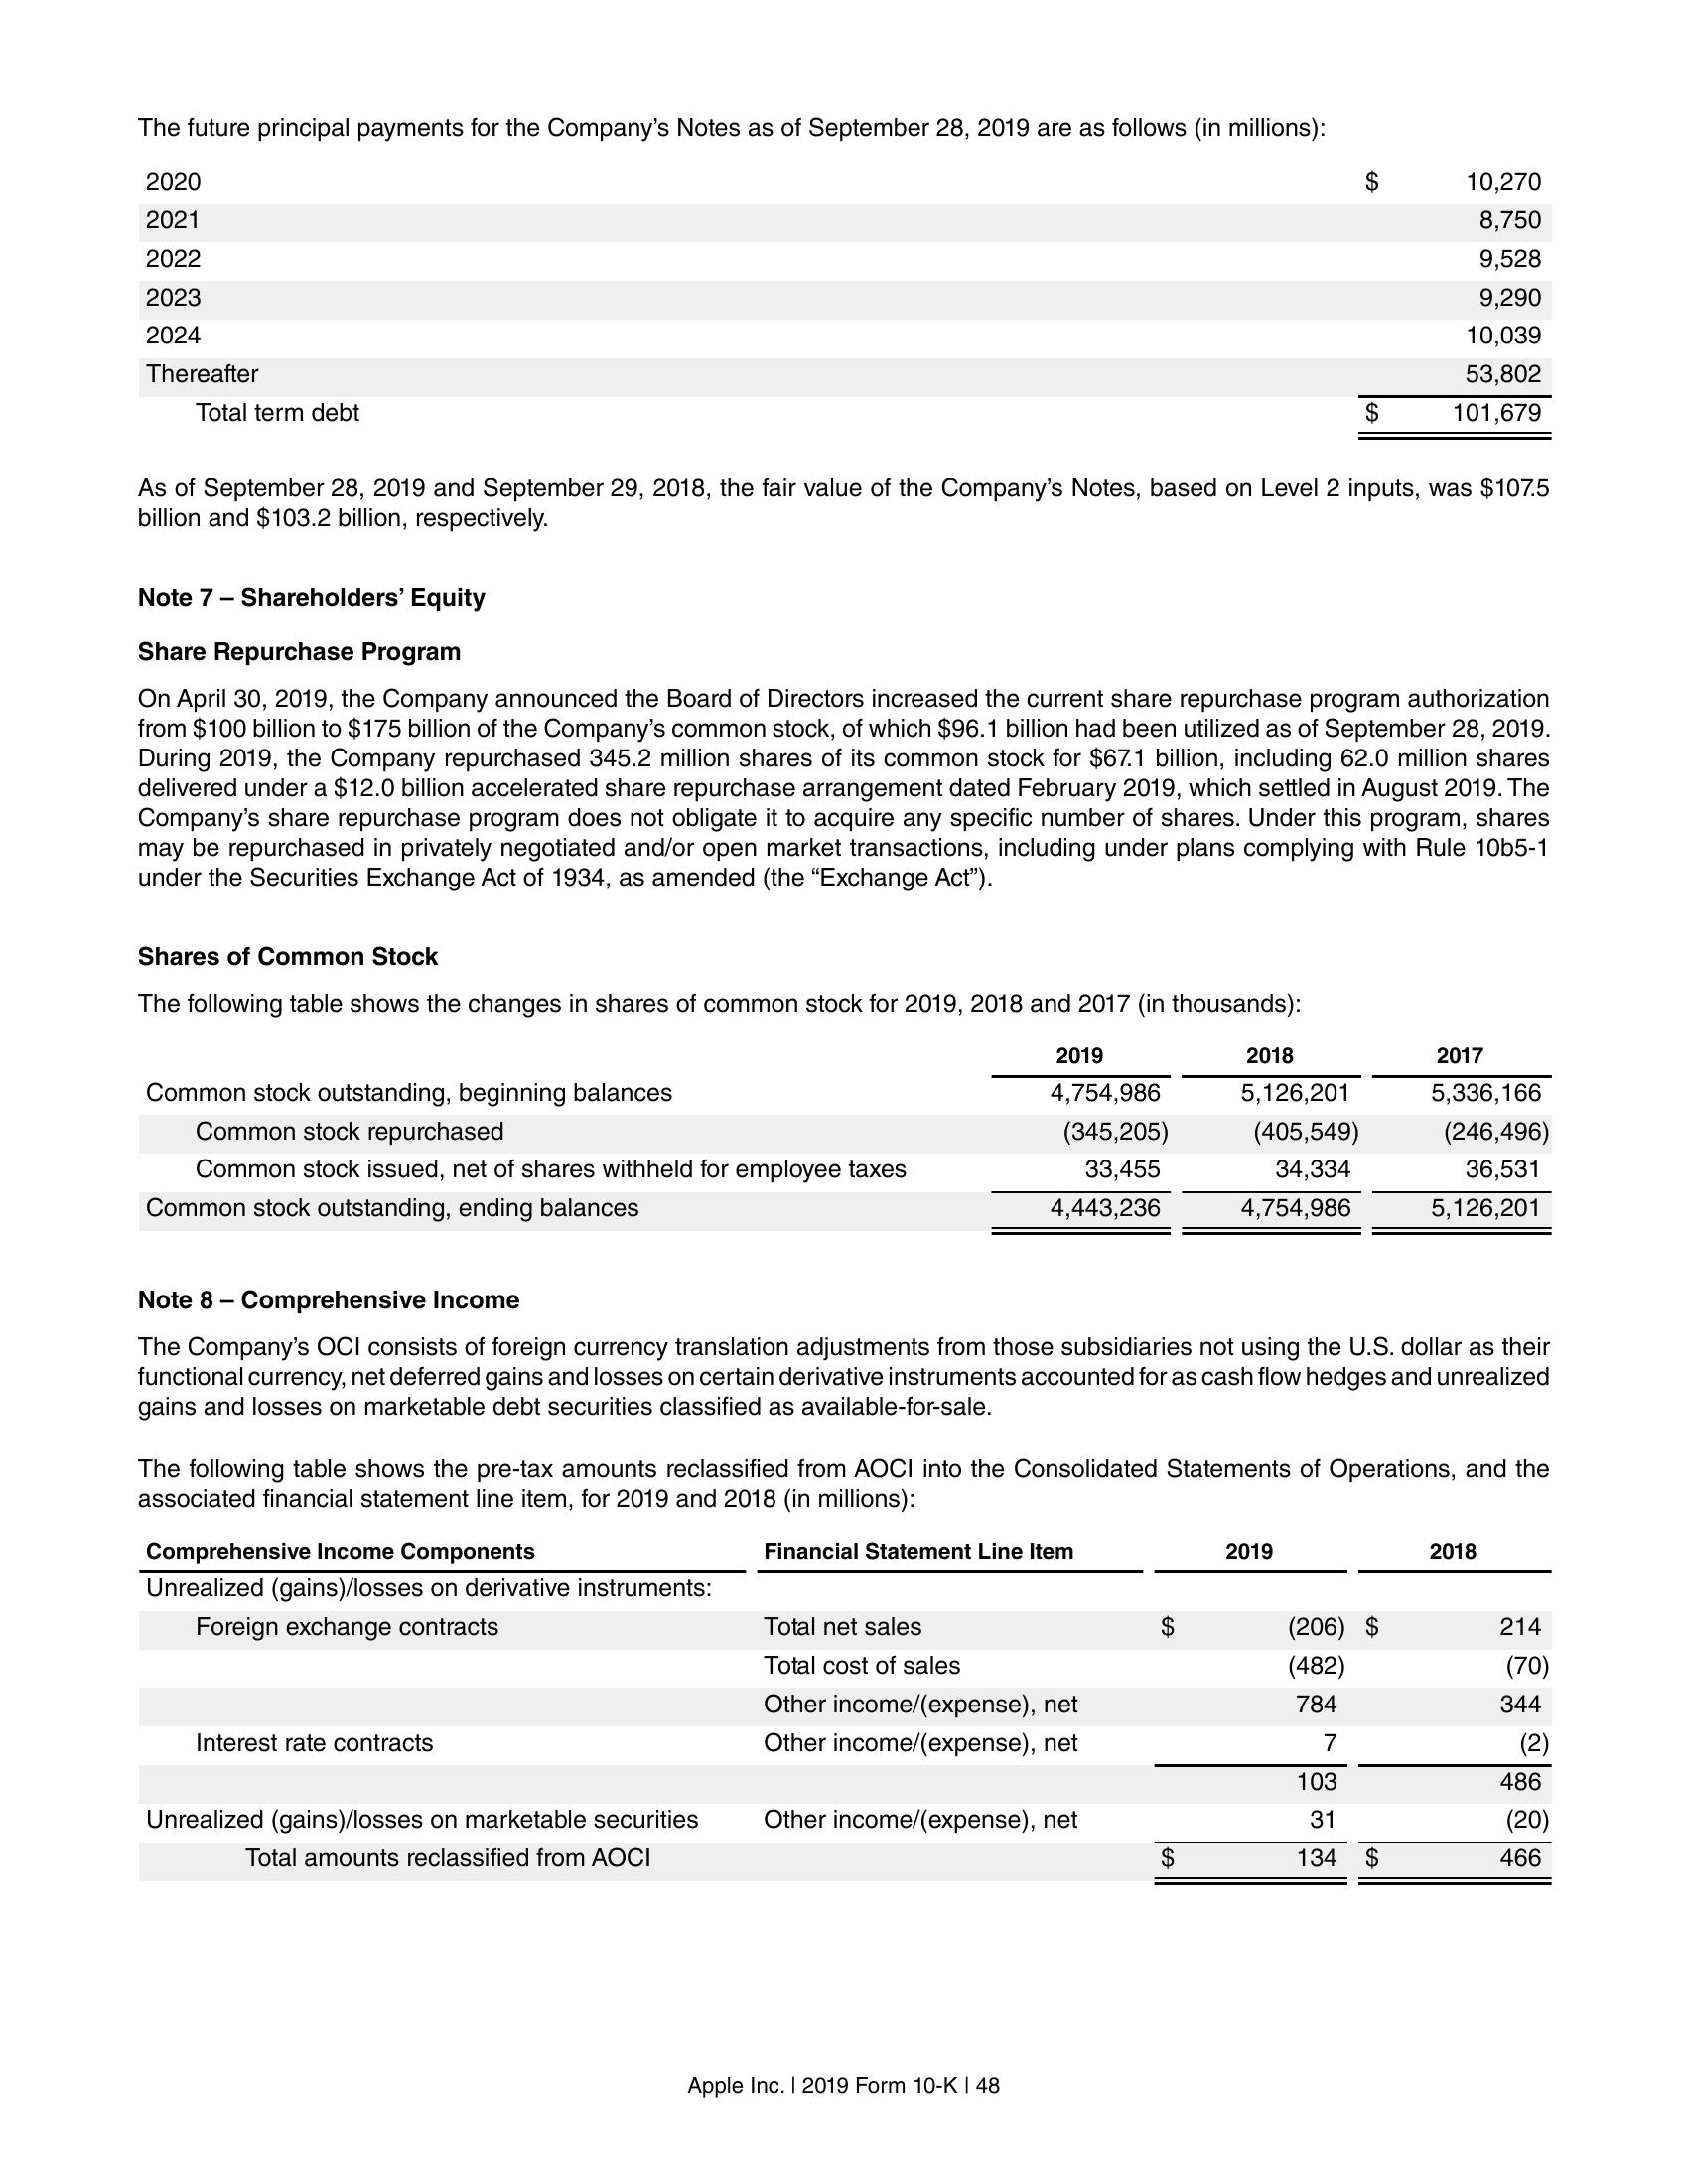table: (142, 1532, 1553, 1891), (138, 158, 1553, 445), (138, 1039, 1553, 1239)
